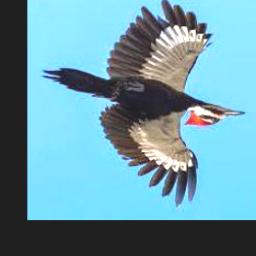Woodpecker: (42, 0, 246, 209)
